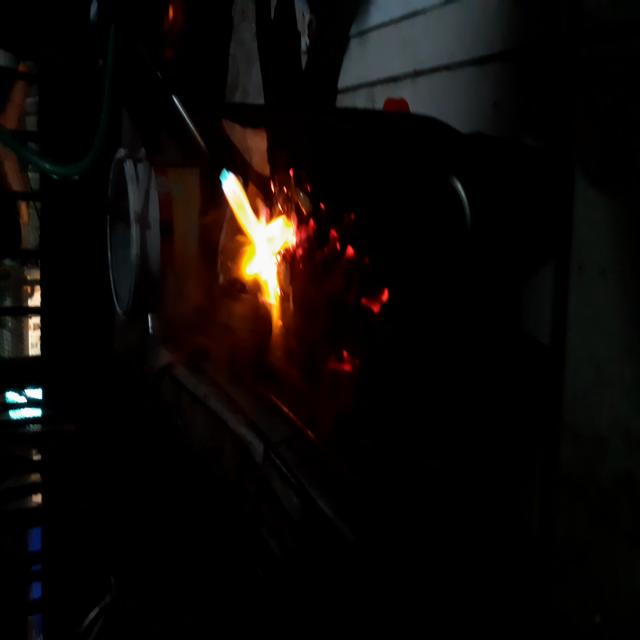Fire: (302, 205, 392, 378), (215, 147, 293, 336)
